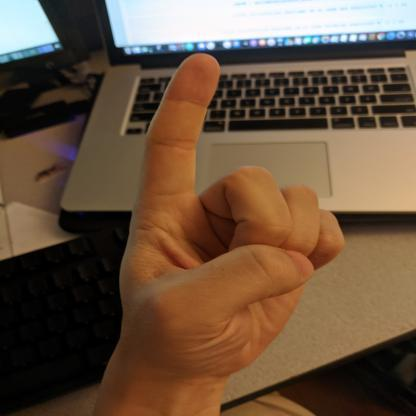D: (112, 50, 350, 383)
